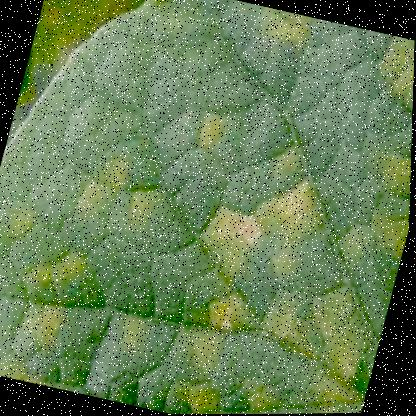DownyMildew: (0, 107, 412, 415), (153, 0, 415, 264)
